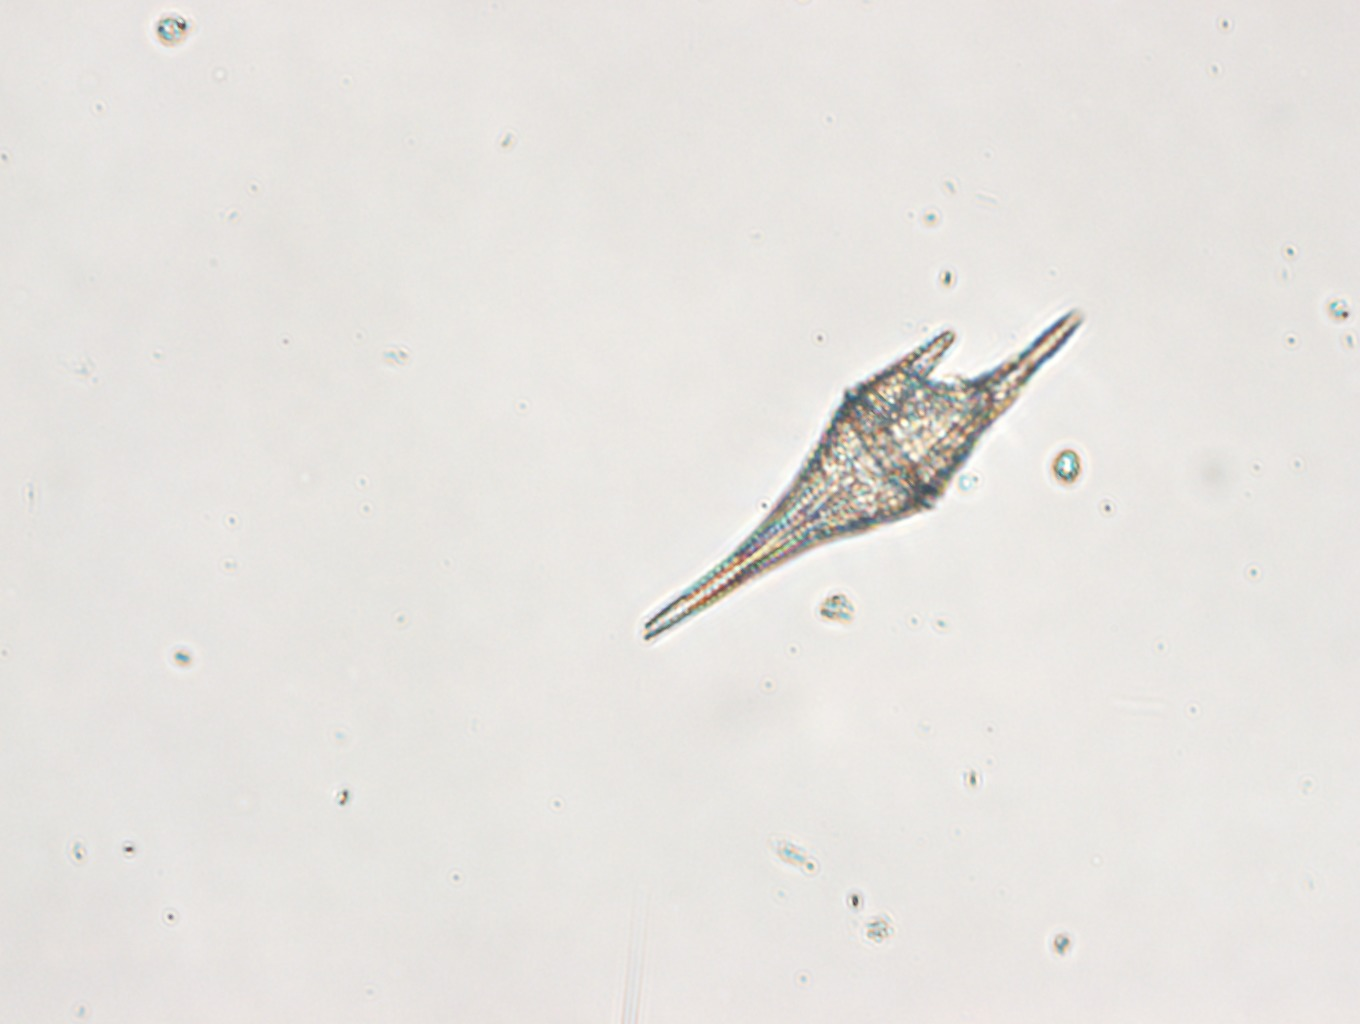ceratium furca: (636, 296, 1096, 641)
